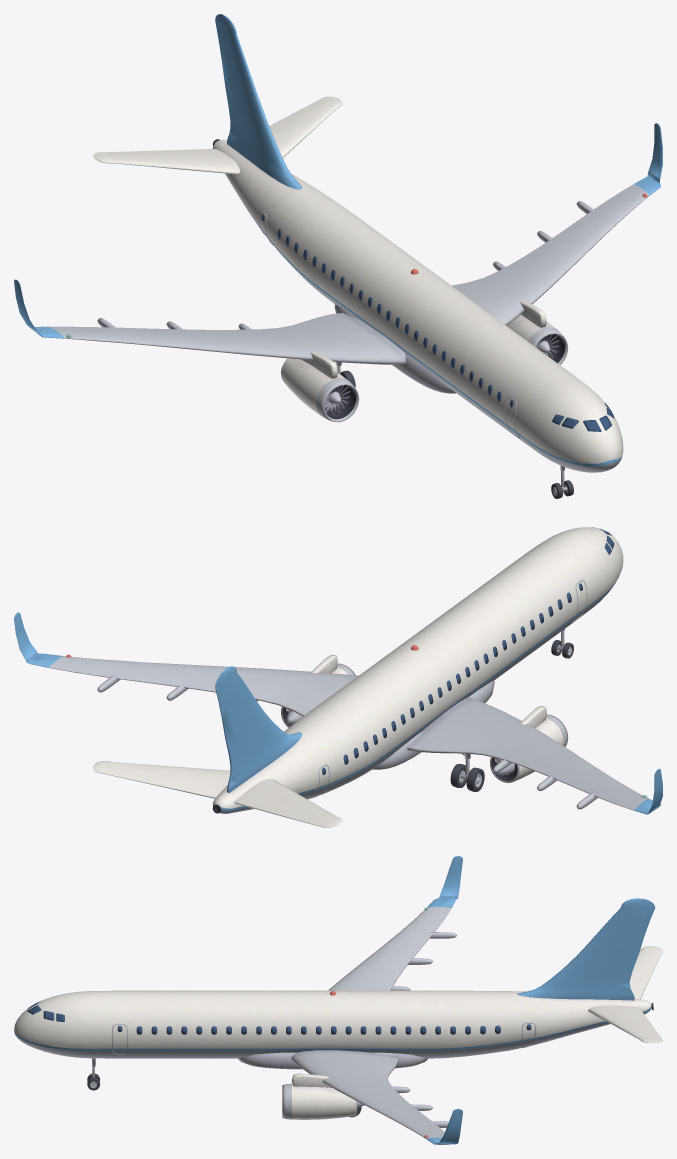
The model's file is plan.glb.
3 renders of one model, top to bottom at view 1: azimuth 30°, elevation 25°; view 2: azimuth 150°, elevation 25°; view 3: azimuth 270°, elevation 25°, orthographic. The views are drawn at different scales.
Visible parts, largest first — view 1: passenger-airplane_body, passenger-airplane_windows; view 2: passenger-airplane_body, passenger-airplane_windows; view 3: passenger-airplane_body, passenger-airplane_windows.
Part boxes in pixels (<box>): passenger-airplane_body: <box>14,14,662,491</box>; passenger-airplane_windows: <box>277,229,614,431</box>; passenger-airplane_body: <box>14,527,662,827</box>; passenger-airplane_windows: <box>343,527,614,764</box>; passenger-airplane_body: <box>14,856,662,1144</box>; passenger-airplane_windows: <box>27,1000,500,1034</box>.
Size of the model in its own units: 35.3 by 12.31 by 38.24.
Materials: 21 (1 with a texture image).
